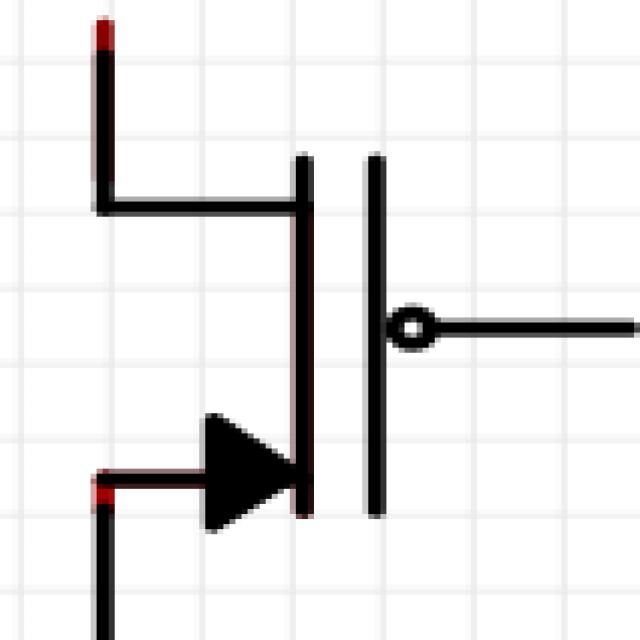pmos: (45, 30, 640, 624)
